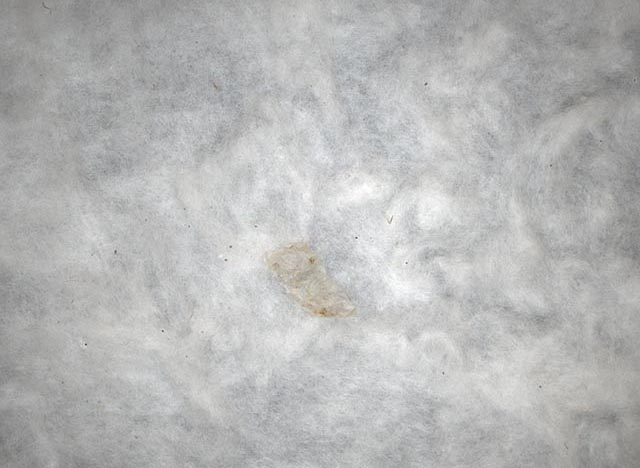plastic film: (262, 240, 356, 317)
